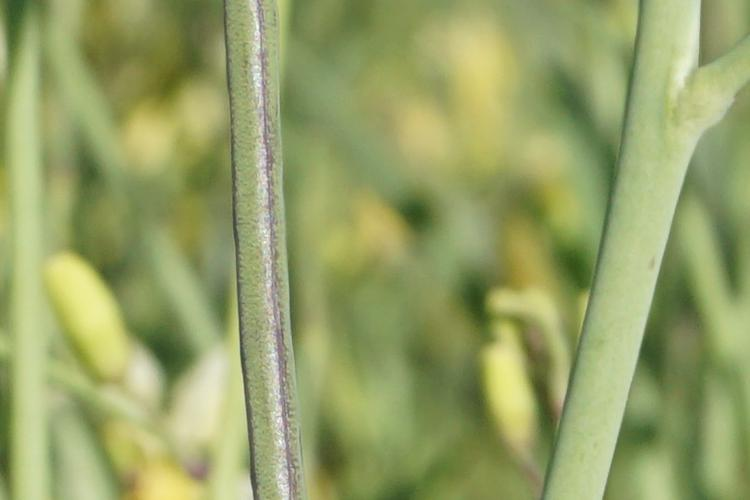bud: (46, 256, 141, 375)
